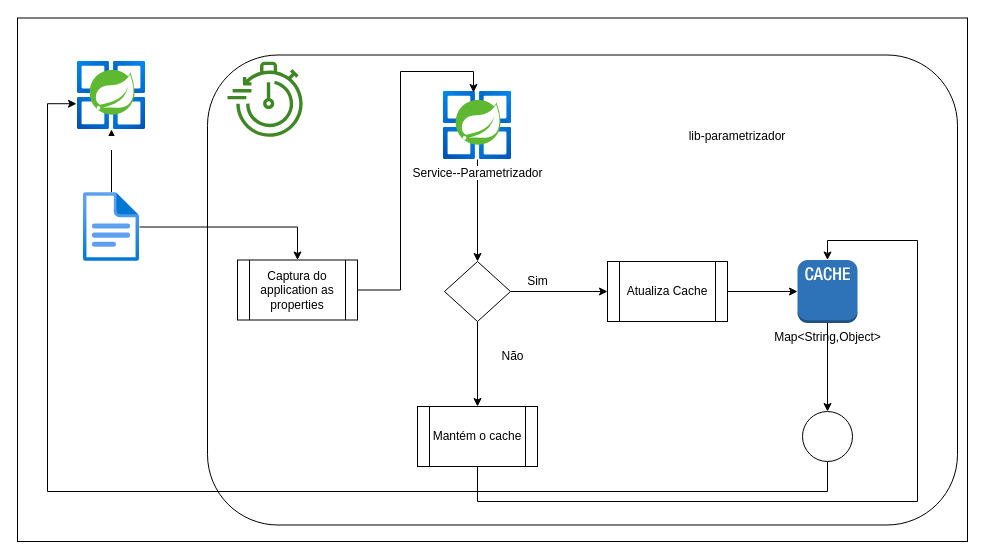
This 985x559 diagram has some shape labels left out. The shapes that lost their labels are listed below. From the top down, each one's centre as x and y in pixels, then its label:
At [111,226]: "application.yml".
At [477,291]: "200-OK".
At [827,436]: "return".
